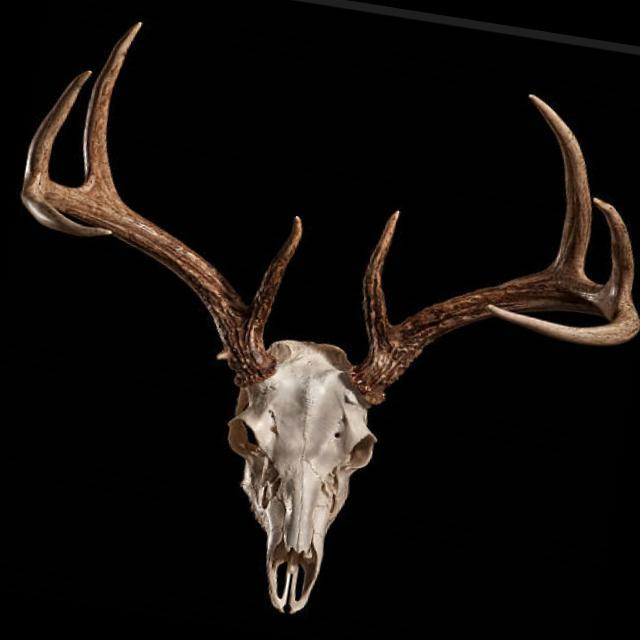L-F: (348, 274, 640, 406)
L-G1: (361, 209, 401, 345)
L-G2: (524, 92, 593, 278)
L-G3: (594, 197, 635, 302)
R-F: (19, 180, 280, 388)
R-G1: (250, 214, 304, 329)
R-G2: (77, 19, 144, 206)
R-G3: (23, 69, 93, 182)
